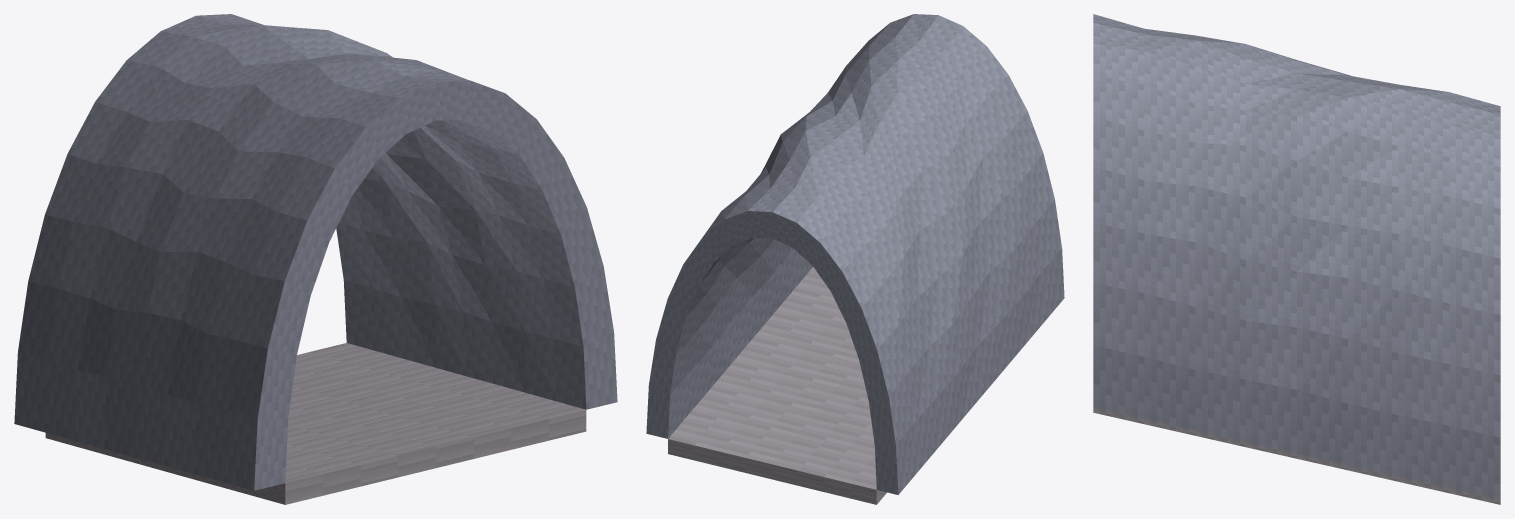
The model's file is cave-and-crystal-networks-tunnel-slope-up-d20d839f.glb.
3 views of the same model, side by side, from view 1: azimuth 30°, elevation 25°; view 2: azimuth 150°, elevation 25°; view 3: azimuth 270°, elevation 25° (orthographic). The views are drawn at different scales.
Visible parts, largest first — view 1: tunnel-slope-up; view 2: tunnel-slope-up; view 3: tunnel-slope-up.
Part boxes in pixels (bbox=[...]): tunnel-slope-up: bbox=[14, 14, 617, 504]; tunnel-slope-up: bbox=[646, 14, 1064, 504]; tunnel-slope-up: bbox=[1093, 14, 1500, 504].
Bounding box in the file's own units: 3.5 × 4.55 × 4.
2 materials, 2 textured.
